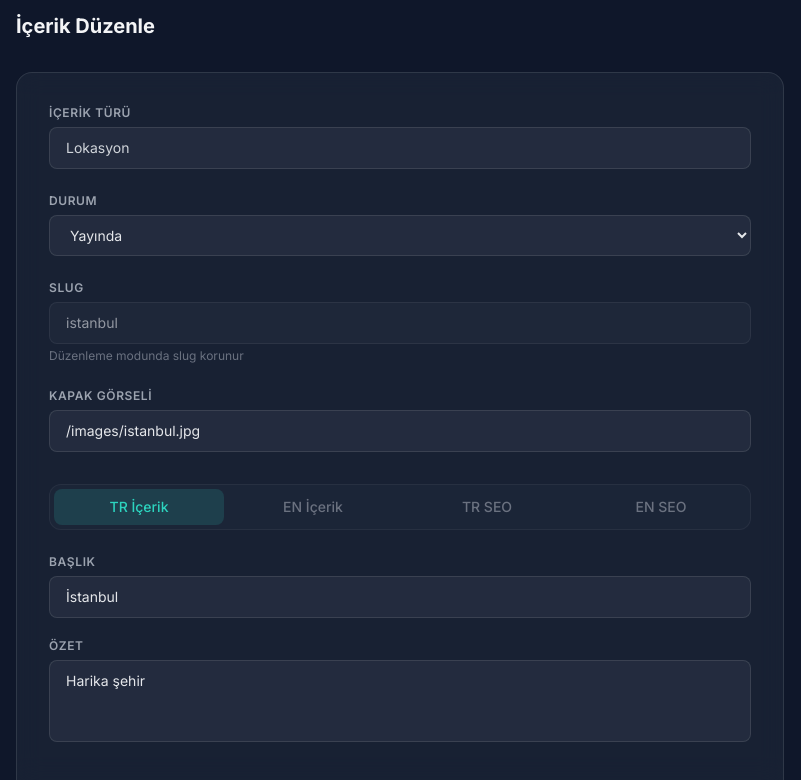
ContentEditor › SEO EN tab ile İngilizce SEO alanlarını gösterir
What coordinates should you click on to do the following:
click the button "EN SEO"
I would click on:
 (661, 507)
Its box is [576, 489, 746, 525].
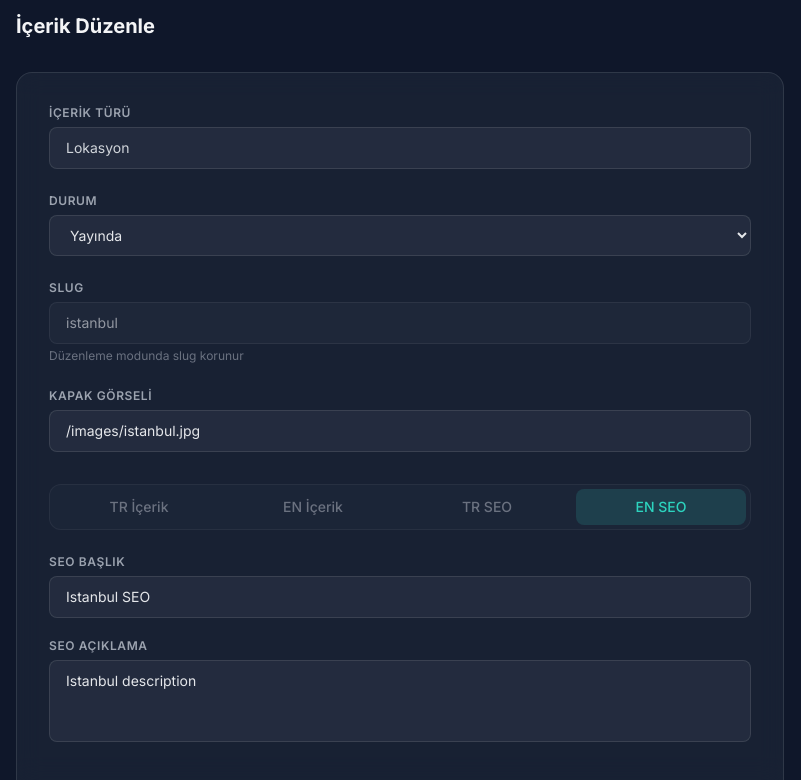
Expected: the field showing "Istanbul SEO" below "SEO Başlık" is shown, [49, 576, 751, 618]
Expected: the text box showing "Istanbul description" is shown, [49, 660, 751, 742]
